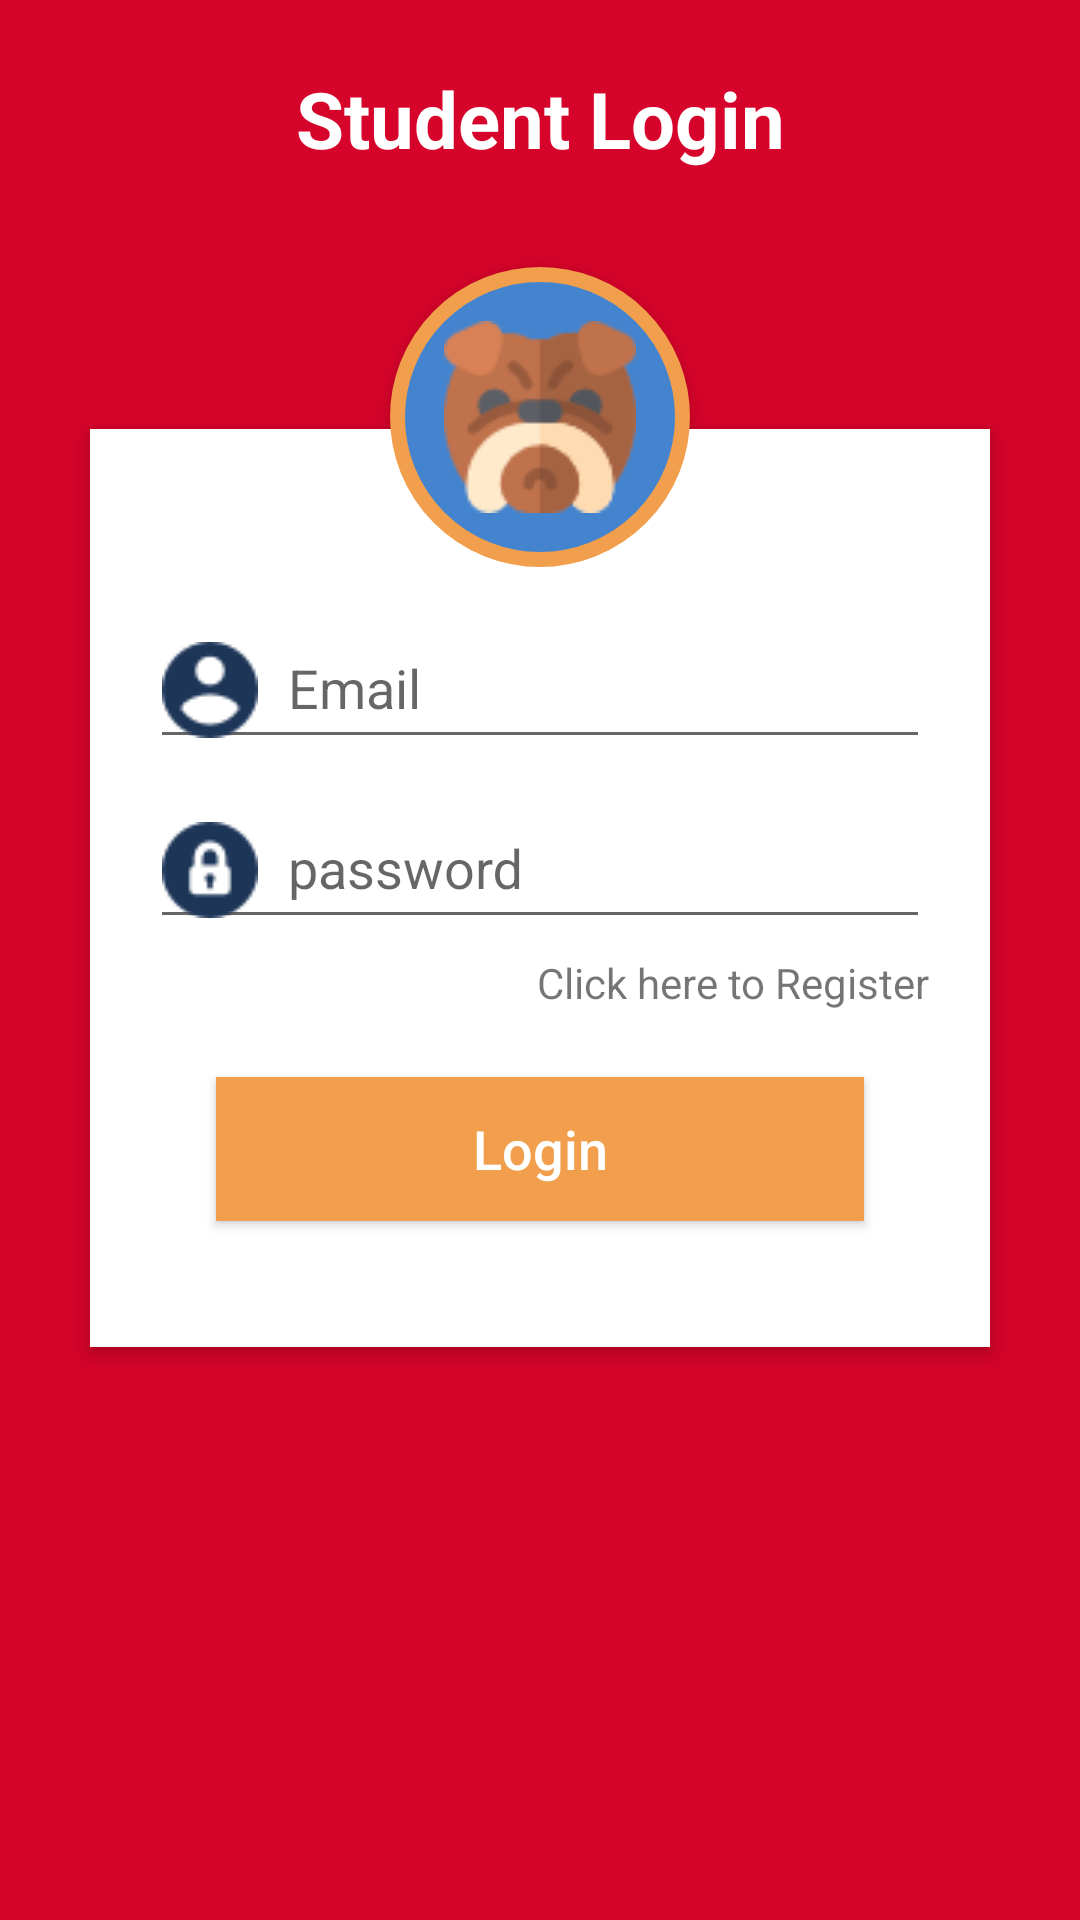

Point at icon controls on the screen. Image size 1080px×1920px, points as point (x, y).
bulldog: point (540, 417)
